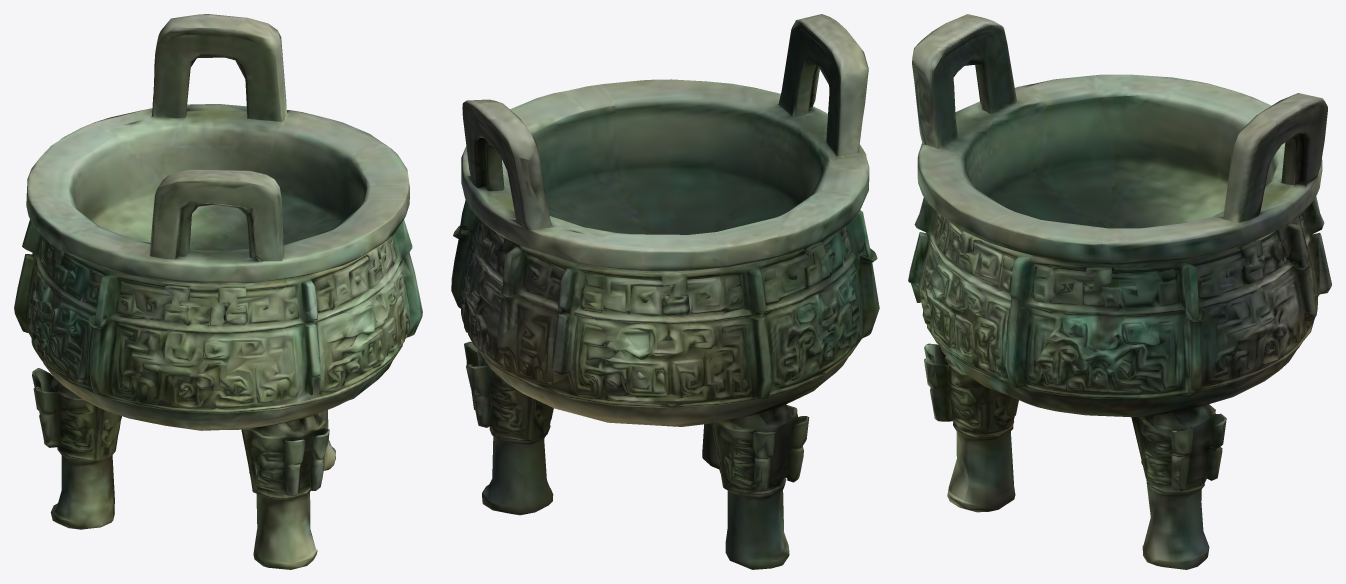
File: ding-low.glb
The picture shows the model from 3 angles, left to right: view 1: azimuth 30°, elevation 25°; view 2: azimuth 150°, elevation 25°; view 3: azimuth 270°, elevation 25°; orthographic projection. The views are drawn at different scales.
Size of the model in its own units: 0.8504 by 0.9995 by 0.889.
1 material, 1 textured.
